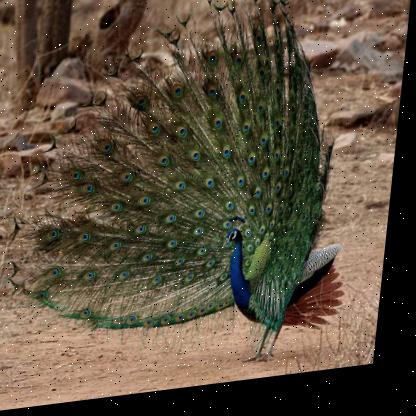Burung: (1, 0, 379, 396)
